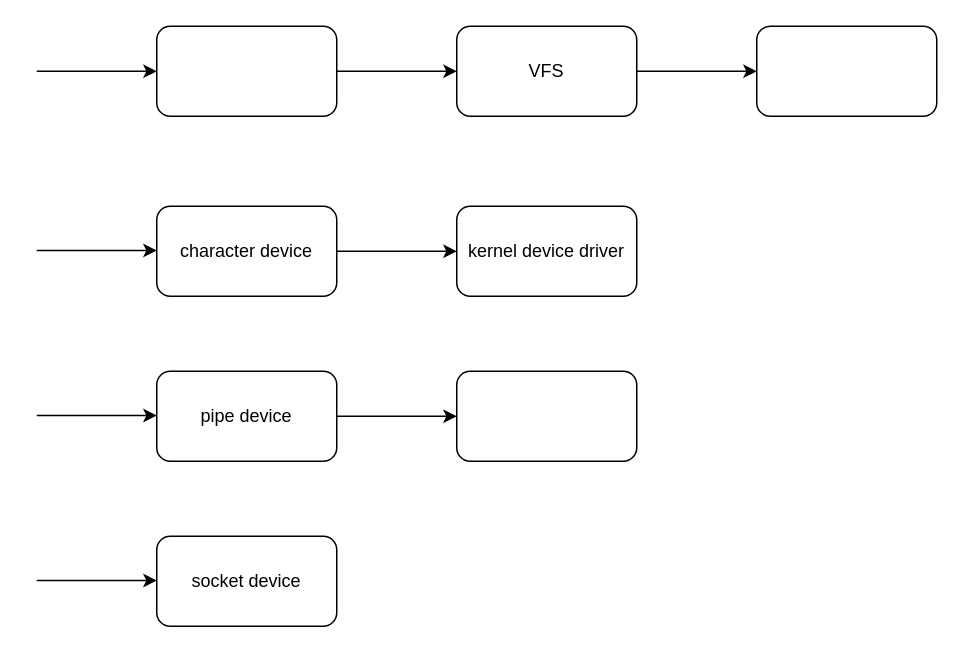
The diagram is 963 pixels wide and 653 high, and some of its shapes have lost their labels. Each missing label, with the centre of its shape:
another proces: [546,415]
block device: [246,70]
specific fs: [846,70]
